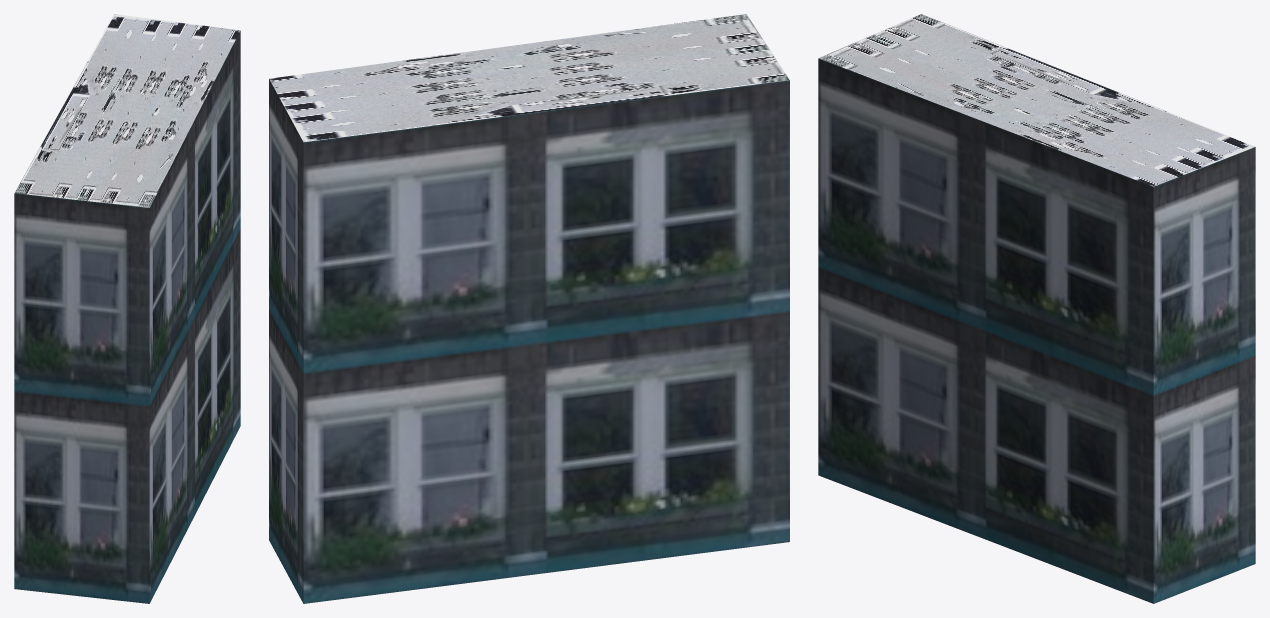
The model's file is ResTex__1425.fbx.
3 renders of one model, left to right at view 1: azimuth 30°, elevation 25°; view 2: azimuth 150°, elevation 25°; view 3: azimuth 270°, elevation 25°, orthographic. The views are drawn at different scales.
Visible parts, largest first — view 1: CityEngineMaterial_11_m, CityEngineMaterial_8_m; view 2: CityEngineMaterial_11_m, CityEngineMaterial_8_m; view 3: CityEngineMaterial_11_m, CityEngineMaterial_8_m.
Boxes of the visible parts, bbox=[...] form: CityEngineMaterial_11_m: bbox=[14, 31, 240, 603]; CityEngineMaterial_8_m: bbox=[14, 14, 240, 207]; CityEngineMaterial_11_m: bbox=[269, 79, 789, 603]; CityEngineMaterial_8_m: bbox=[269, 14, 789, 142]; CityEngineMaterial_11_m: bbox=[818, 58, 1255, 603]; CityEngineMaterial_8_m: bbox=[818, 14, 1255, 186].
Size of the model in its own units: 5.33 by 6 by 5.7.
2 materials, 2 textured.
